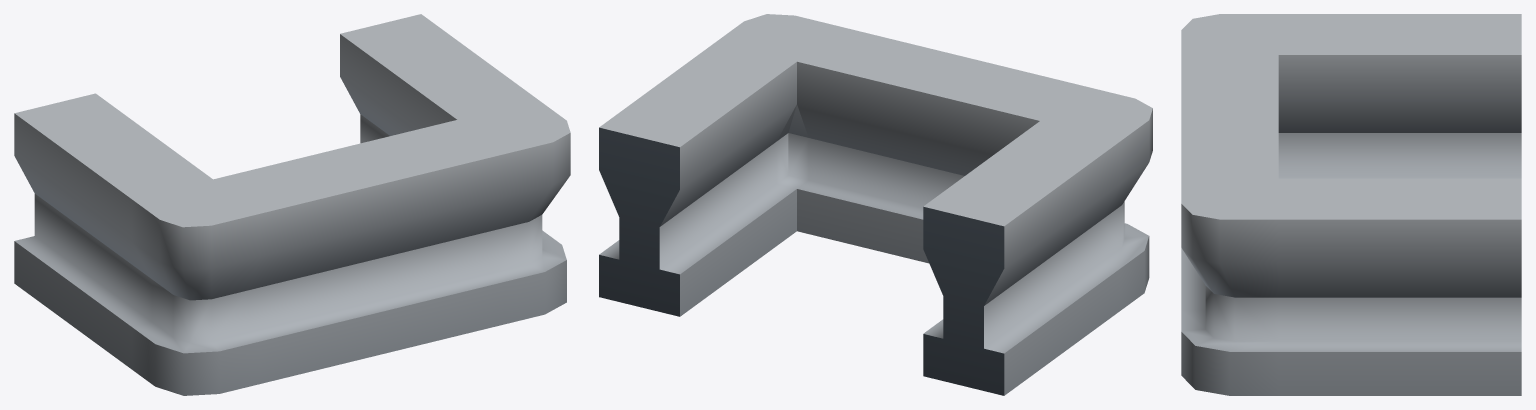
The model's file is balcony-rail.glb.
The picture shows the model from 3 angles, left to right: view 1: azimuth 30°, elevation 25°; view 2: azimuth 150°, elevation 25°; view 3: azimuth 270°, elevation 25°; orthographic projection. The views are drawn at different scales.
Visible parts, largest first — view 1: balcony-rail; view 2: balcony-rail; view 3: balcony-rail.
Part boxes in pixels (box(x1,y1,x2,y2)): balcony-rail: box(14, 14, 570, 395); balcony-rail: box(599, 14, 1152, 395); balcony-rail: box(1181, 14, 1521, 395).
Size of the model in its own units: 1 by 0.3999 by 0.7.
